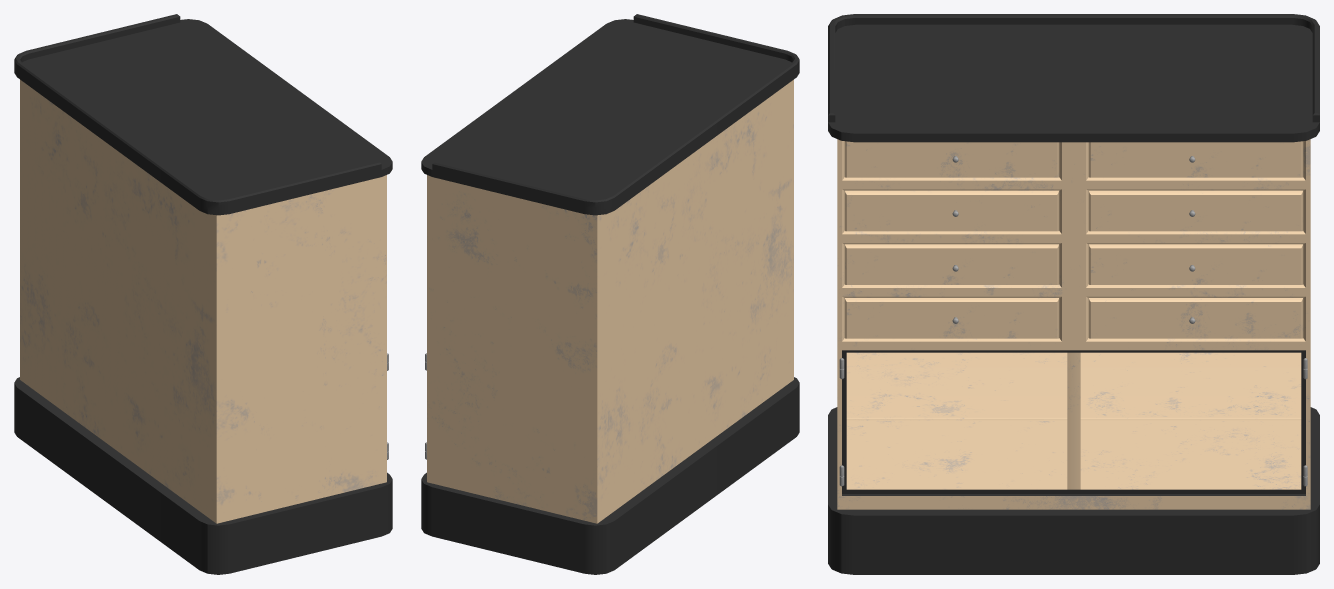
The model's file is furniture.glb.
3 views of the same model, side by side, from view 1: azimuth 30°, elevation 25°; view 2: azimuth 150°, elevation 25°; view 3: azimuth 270°, elevation 25° (orthographic). The views are drawn at different scales.
Visible parts, largest first — view 1: Meuble1; view 2: Meuble1; view 3: Meuble1.
Part boxes in pixels (x1,y1,x2,y2): Meuble1: (14, 14, 392, 574); Meuble1: (421, 14, 799, 574); Meuble1: (828, 14, 1319, 574).
Size of the model in its own units: 55.9 by 105 by 104.
1 material, 1 textured.
